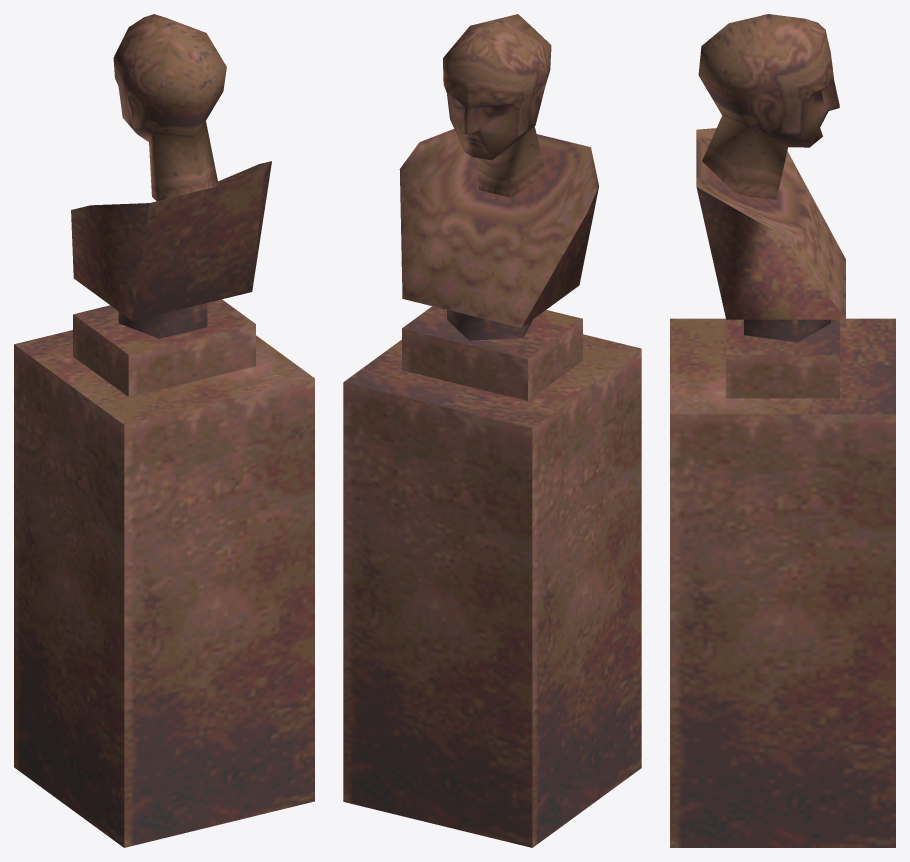
File: ROOM10C0_model02_RE2MV.OBJ
3 renders of one model, left to right at view 1: azimuth 30°, elevation 25°; view 2: azimuth 150°, elevation 25°; view 3: azimuth 270°, elevation 25°, orthographic. The views are drawn at different scales.
Visible parts, largest first — view 1: Object_0; view 2: Object_0; view 3: Object_0.
Part boxes in pixels (x1,y1,x2,y2): Object_0: [14, 14, 314, 847]; Object_0: [343, 14, 641, 847]; Object_0: [670, 14, 895, 847].
Size of the model in its own units: 17.14 by 65.82 by 17.14.
Materials: 1 (1 with a texture image).
